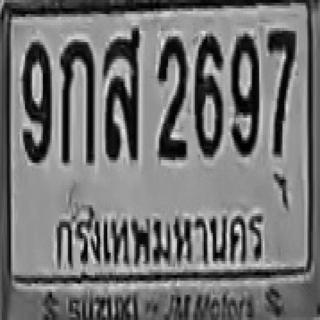A01: (59, 39, 93, 163)
A40: (102, 27, 140, 159)
N02: (156, 34, 187, 157)
N06: (193, 32, 222, 156)
N07: (266, 28, 295, 157)
N09: (22, 39, 50, 160), (232, 31, 258, 154)
P04: (49, 203, 271, 274)
